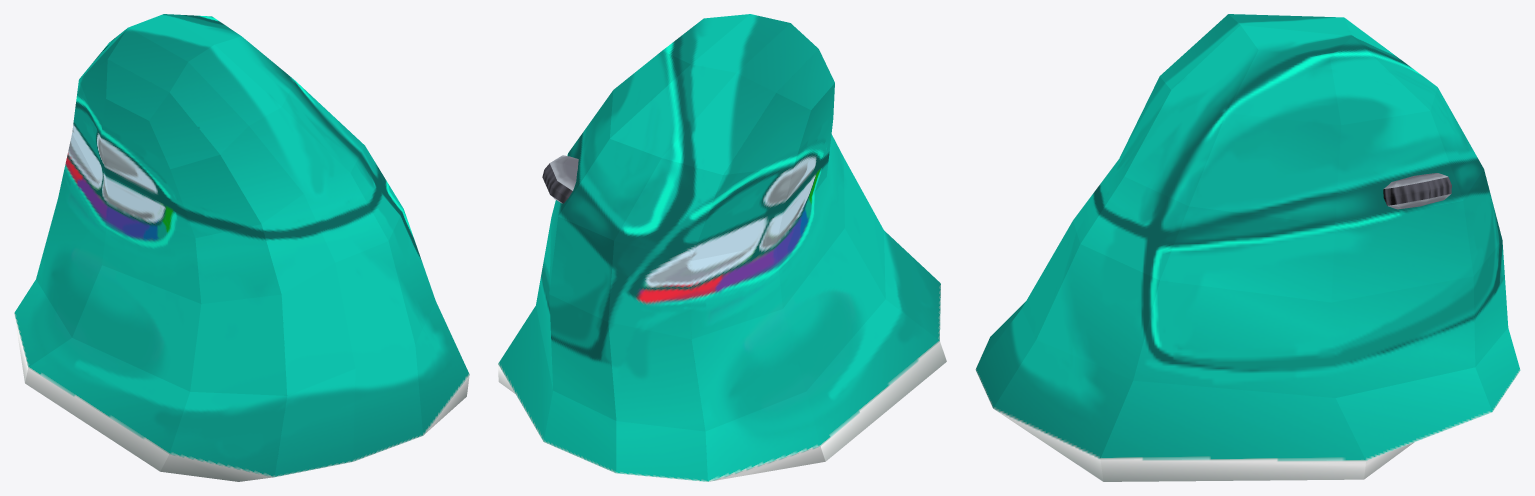
File: Mouse.gltf
3 views of the same model, side by side, from view 1: azimuth 30°, elevation 25°; view 2: azimuth 150°, elevation 25°; view 3: azimuth 270°, elevation 25° (orthographic). The views are drawn at different scales.
Visible parts, largest first — view 1: Mouse; view 2: Mouse; view 3: Mouse.
Boxes of the visible parts, x1,y1,x2,y2 form: Mouse: (14, 14, 469, 481); Mouse: (498, 14, 946, 481); Mouse: (975, 14, 1520, 481).
Bounding box in the file's own units: 0.0478 × 0.0505 × 0.0683.
1 material, 1 textured.
